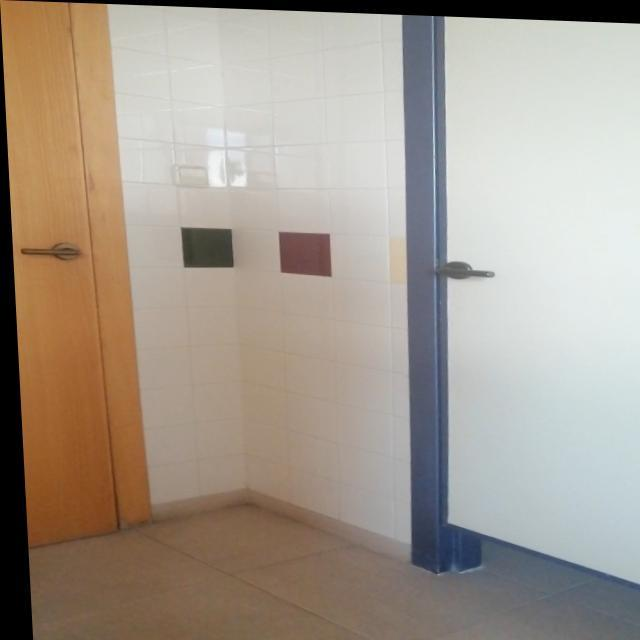door_handle: (429, 262, 496, 276), (14, 245, 79, 257)
